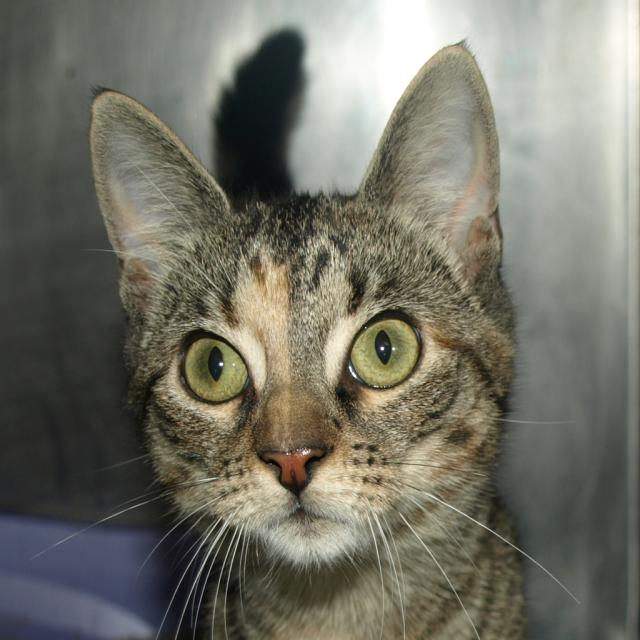Cat: (32, 22, 582, 639)
